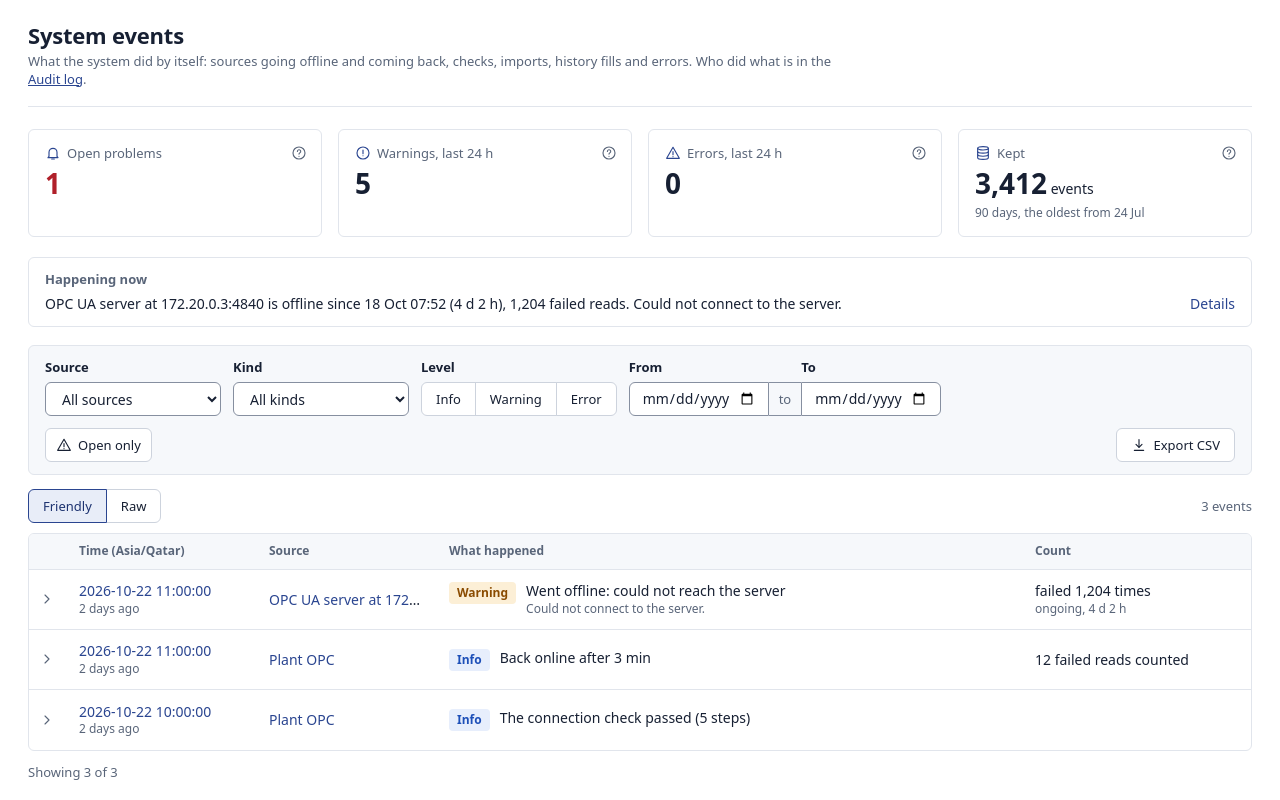
Test case: EventsPage: the calm refresh (w32) › does not read page one again while a drawer is open, and reads it again when the drawer closes
Check: the row "OPC UA server" is shown, box left=29, top=570, right=1251, bottom=630
Click the button named "Details of event #7" at (47, 599), box left=33, top=585, right=61, bottom=613
Wait 30000 ms
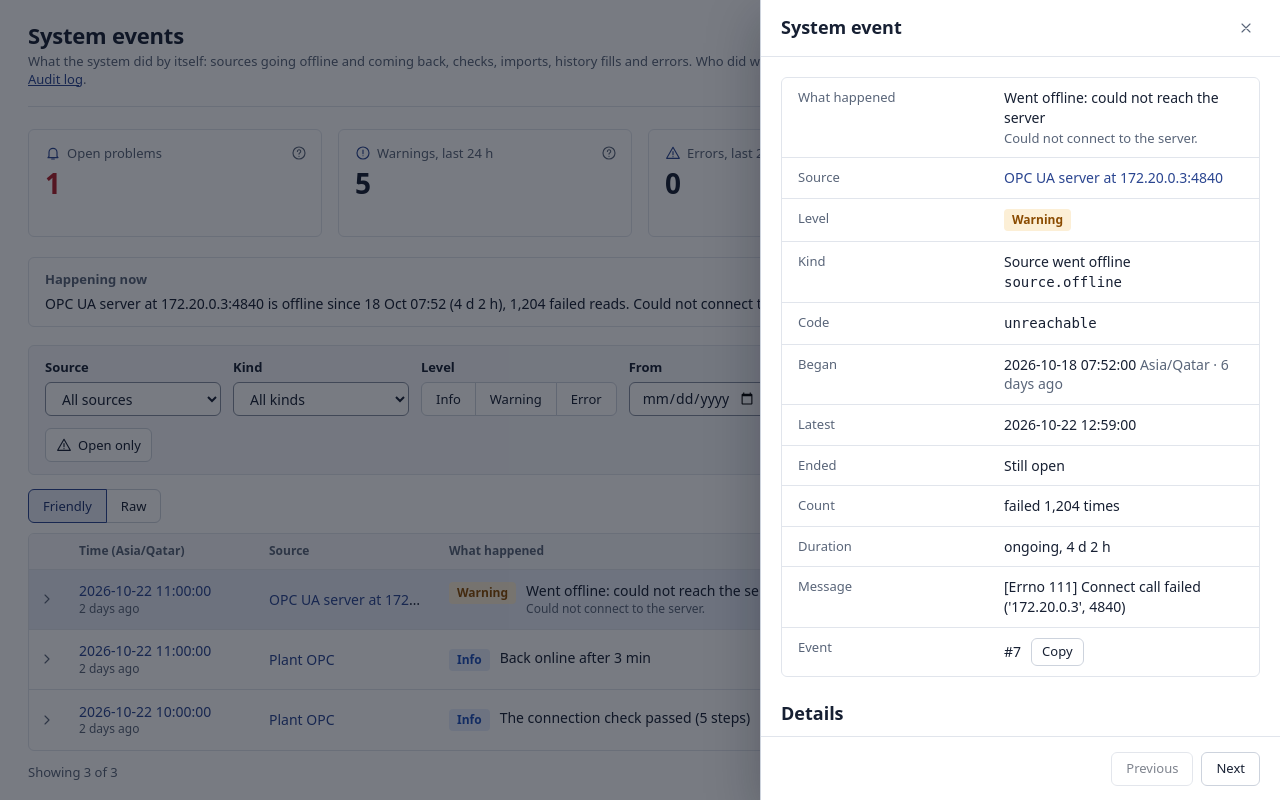
Check: the dialog "System event" is shown, box left=760, top=0, right=1279, bottom=799
Press Escape
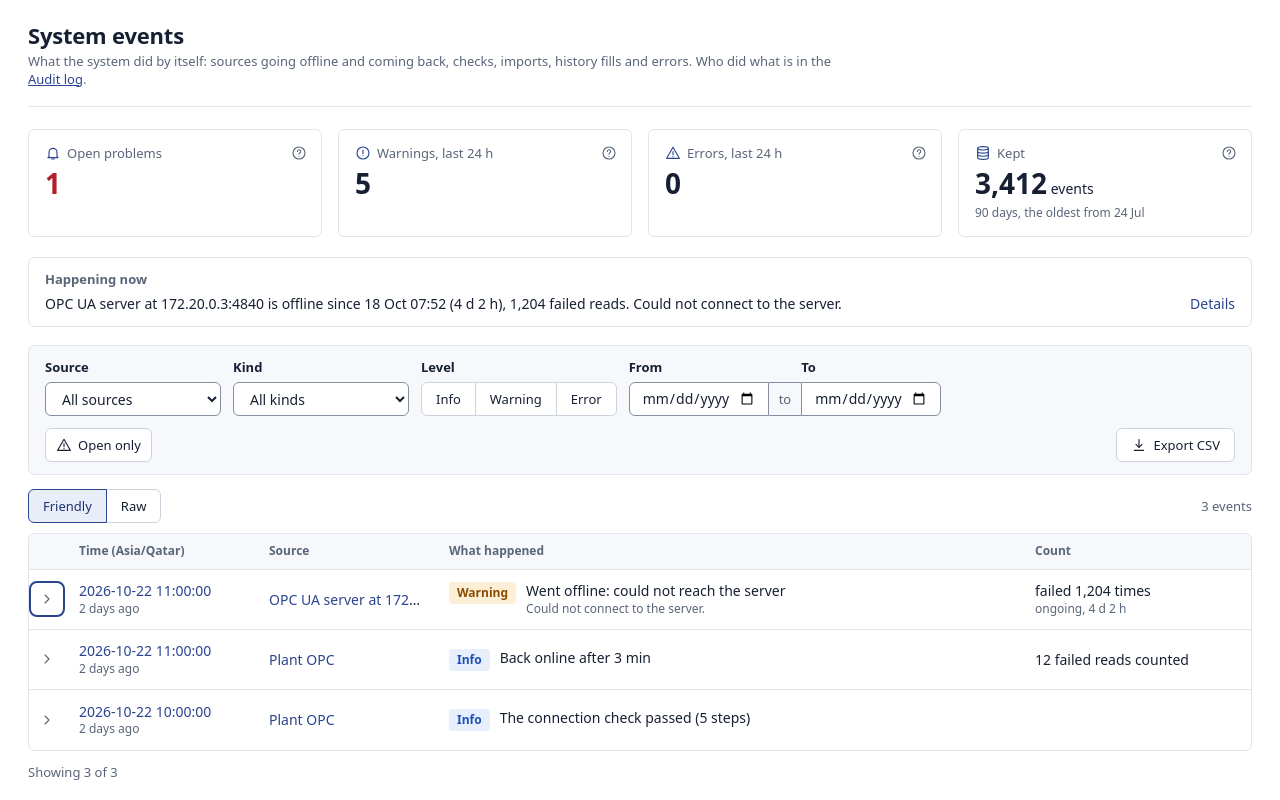
Check: the dialog is gone
